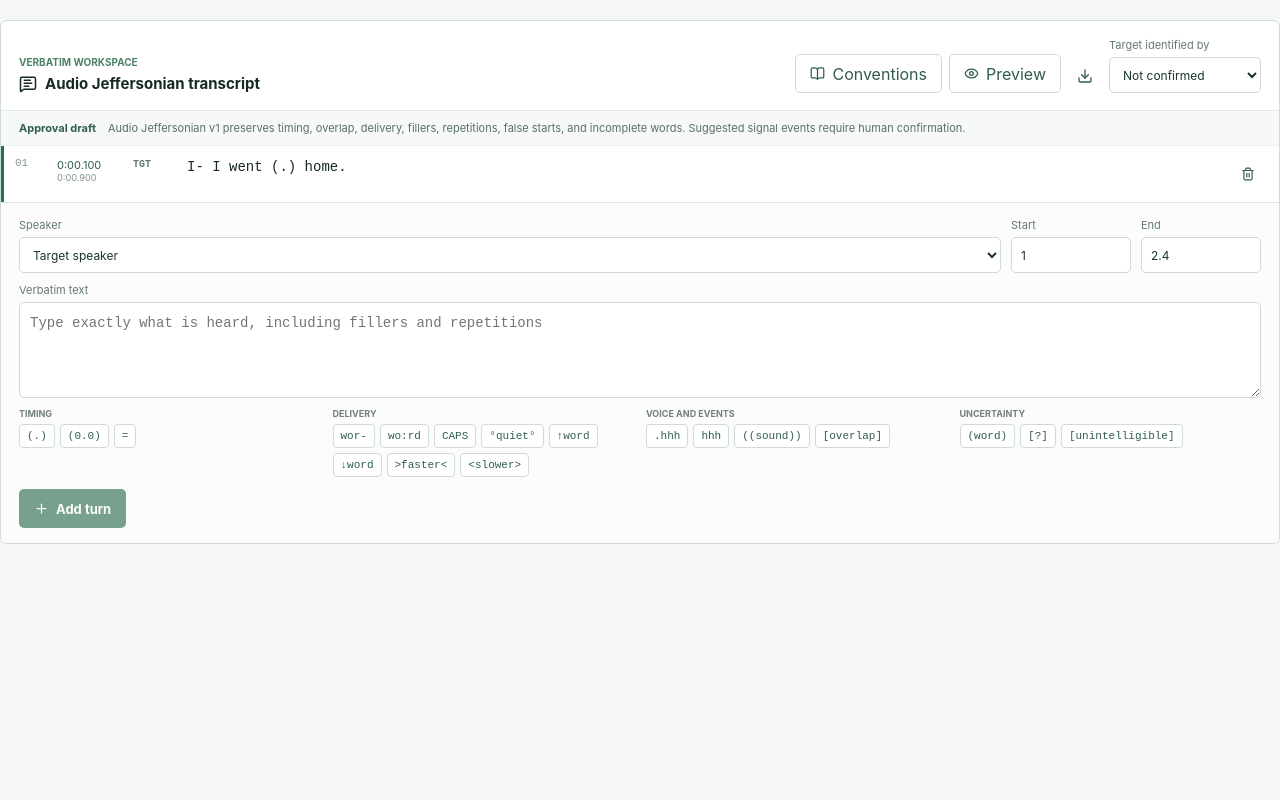
Test: verbatim transcript panel › shows a numbered publication preview and blocks unfinished notation
This screenshot has width=1280, height=800.
Expected: the text "I- I went (.) home." is shown, [187,159,347,175]
Click the button "Preview": (1005,74) [949,54,1061,93]
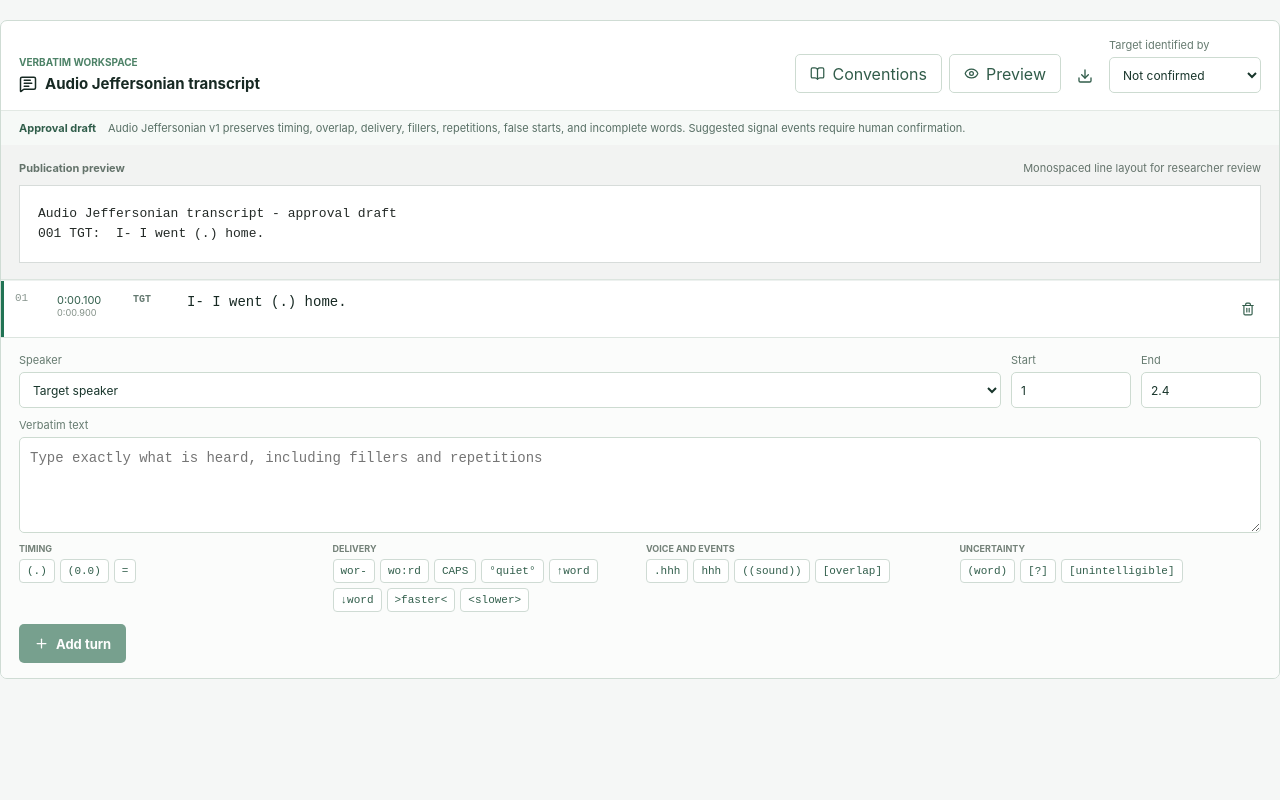
Replace the text in the text box with placeholder "Type exactly what is heard" with "[unfinished": (640,485) [19,437,1261,533]
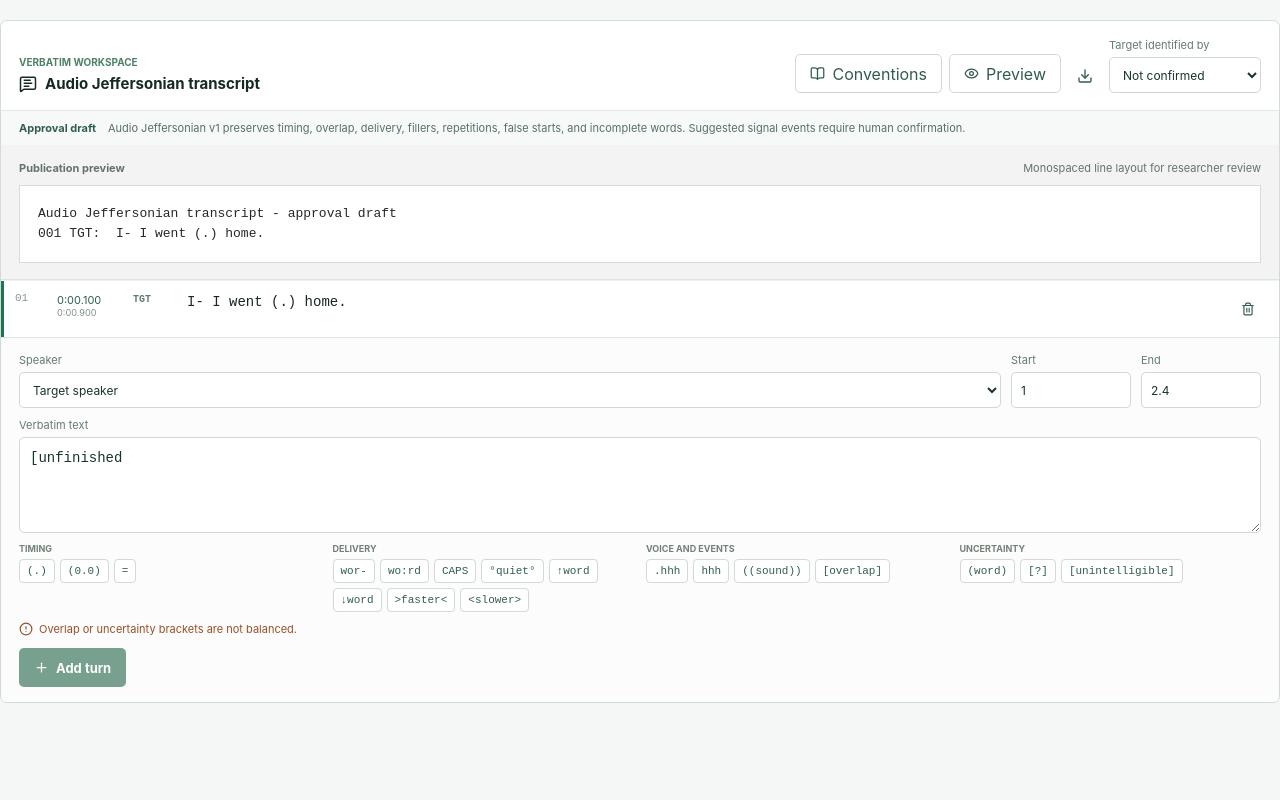
Expected: the button "Add turn" is disabled, [19,648,126,687]
Result: the text "Overlap or uncertainty brackets are not balanced." is shown at [19,622,297,636]
